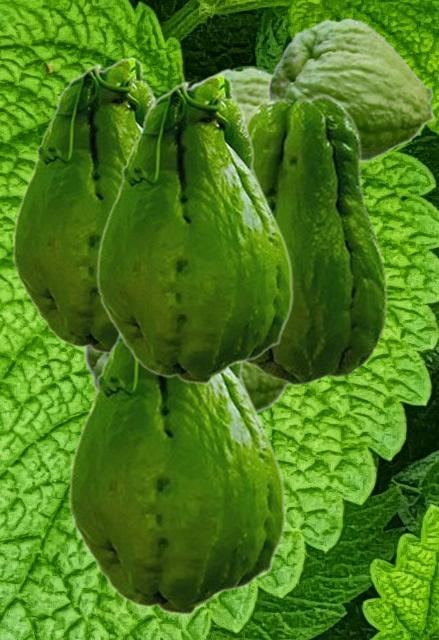sayote: (68, 332, 286, 615), (96, 73, 293, 384), (12, 56, 156, 354), (244, 93, 387, 385), (267, 17, 436, 164), (83, 347, 294, 414), (190, 66, 271, 114)
